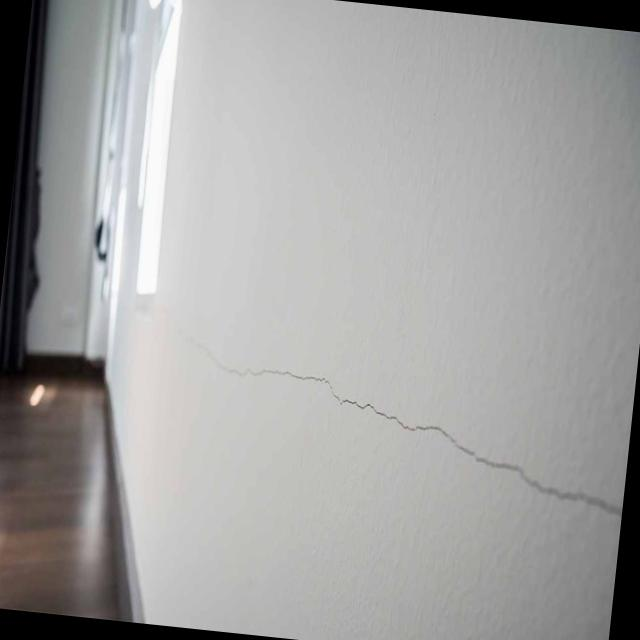crack: (162, 331, 635, 525)
